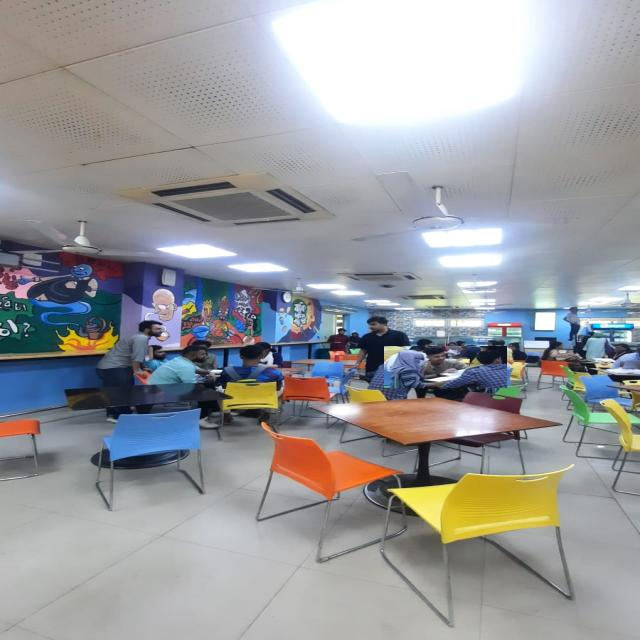absent-minded: (360, 318, 410, 344)
group-studying: (108, 319, 292, 381), (384, 346, 507, 388)
